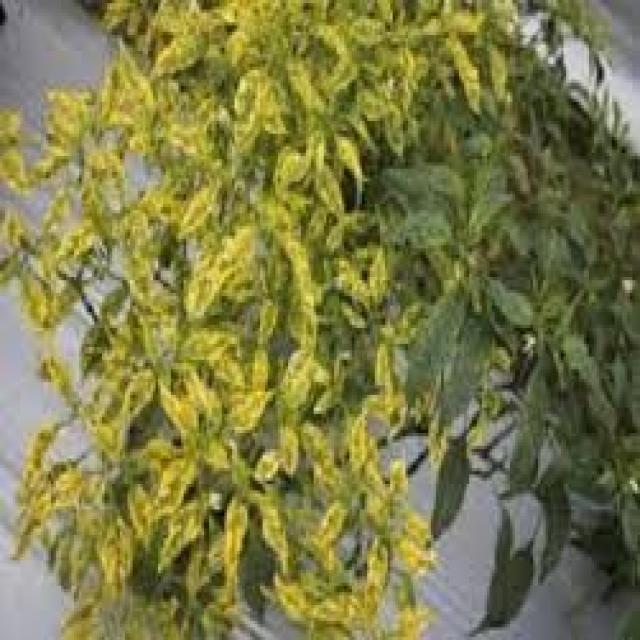virus_kuning: (144, 451, 198, 522), (224, 376, 280, 444), (214, 500, 250, 568)
